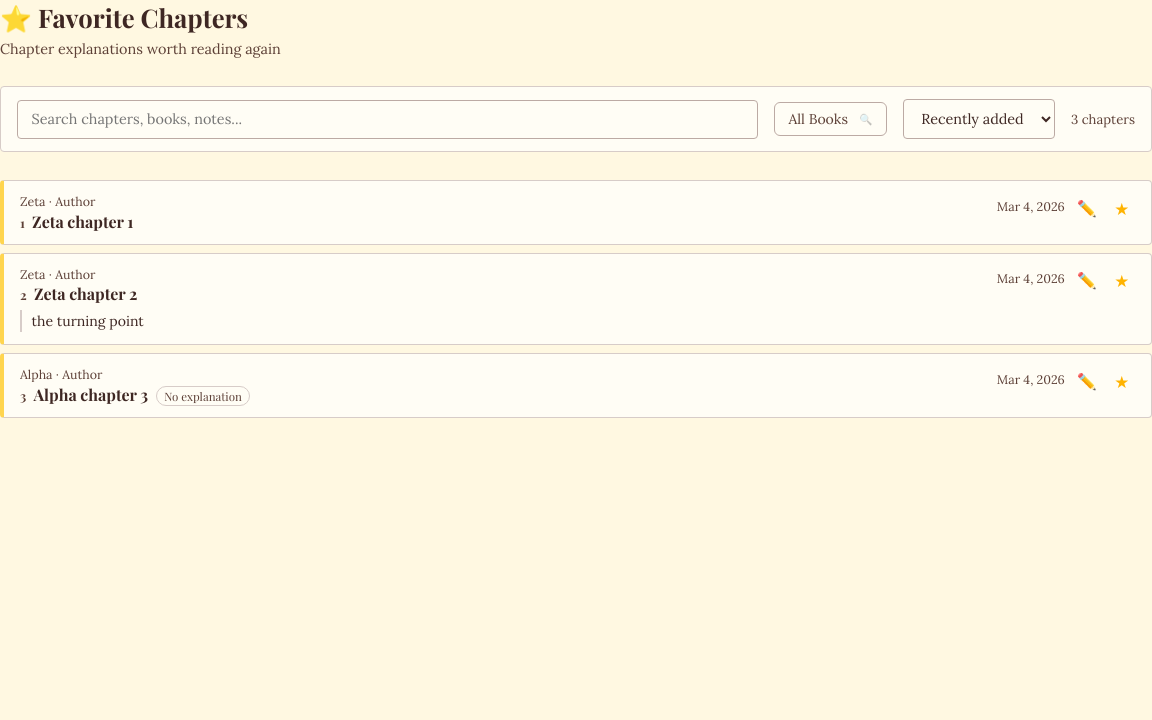
Test case: FavoritesPage › edits the note and removes a favorite after confirming
Click the 1st button titled "Add a note": click(1087, 208) [1071, 193, 1102, 223]
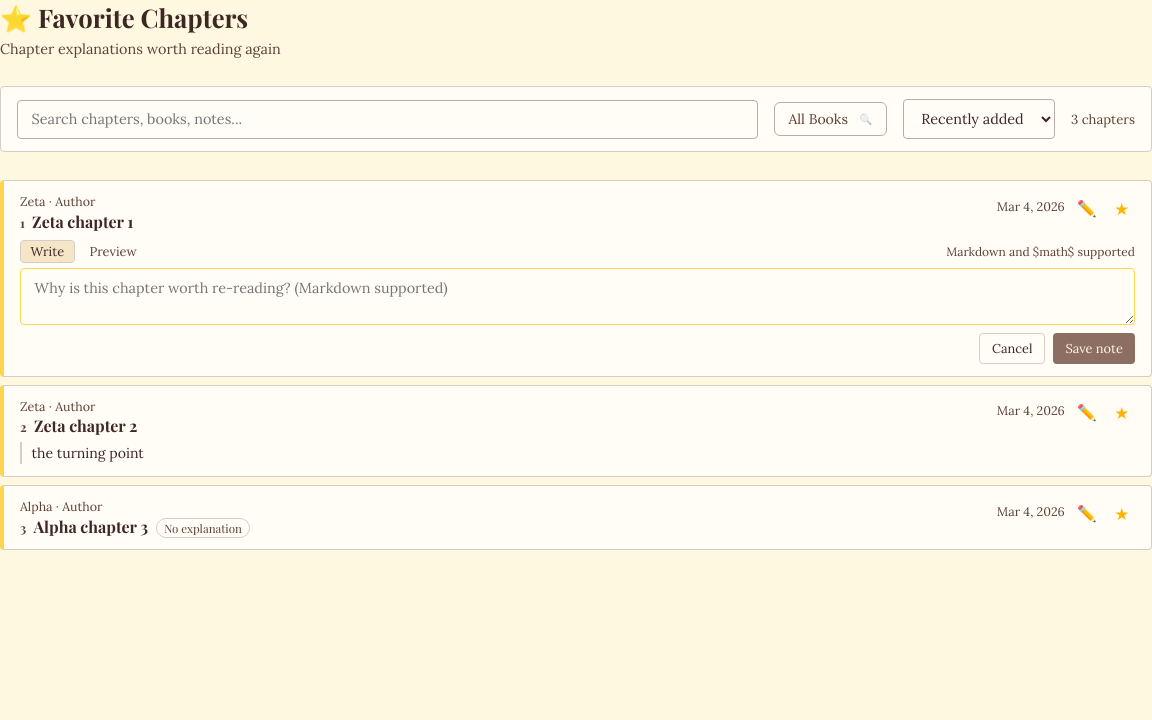
In the text box named "Note": (578, 297) [20, 268, 1135, 325], type "read before exams"
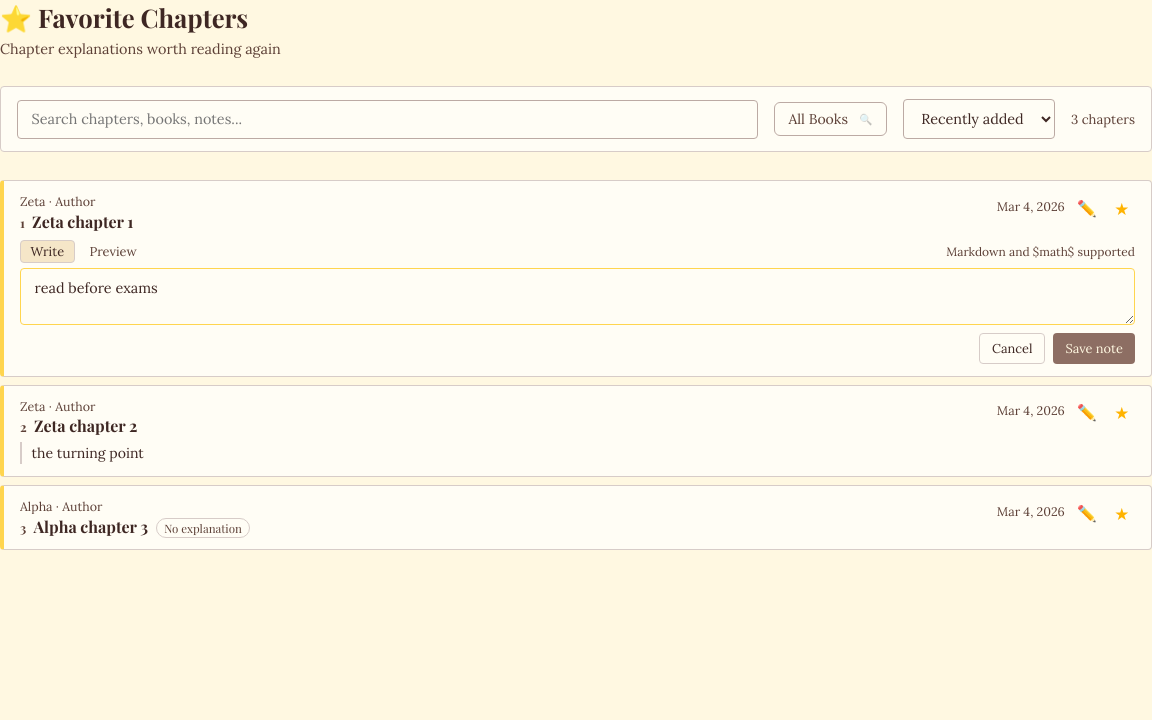
Click the button "Save note": click(1094, 348) [1053, 333, 1135, 364]
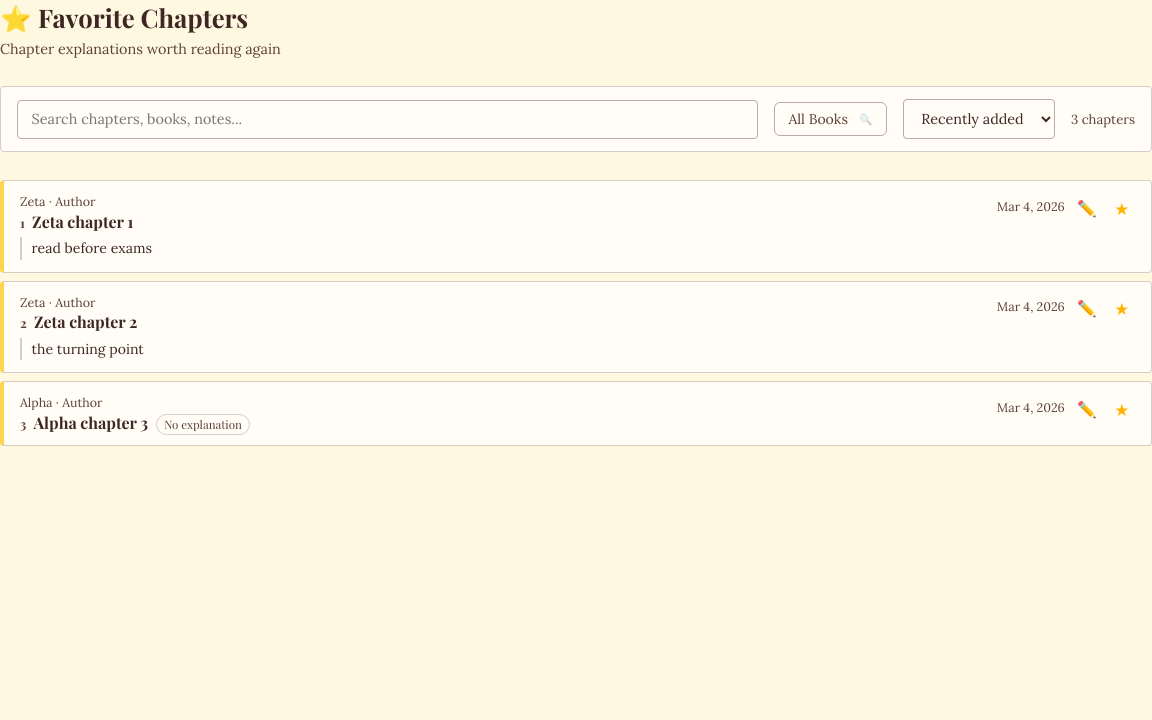
Result: the text "read before exams" is shown at [32, 239, 152, 257]
Click the 1st button titled "Remove from Favorite Chapters": click(1122, 209) [1109, 193, 1135, 225]
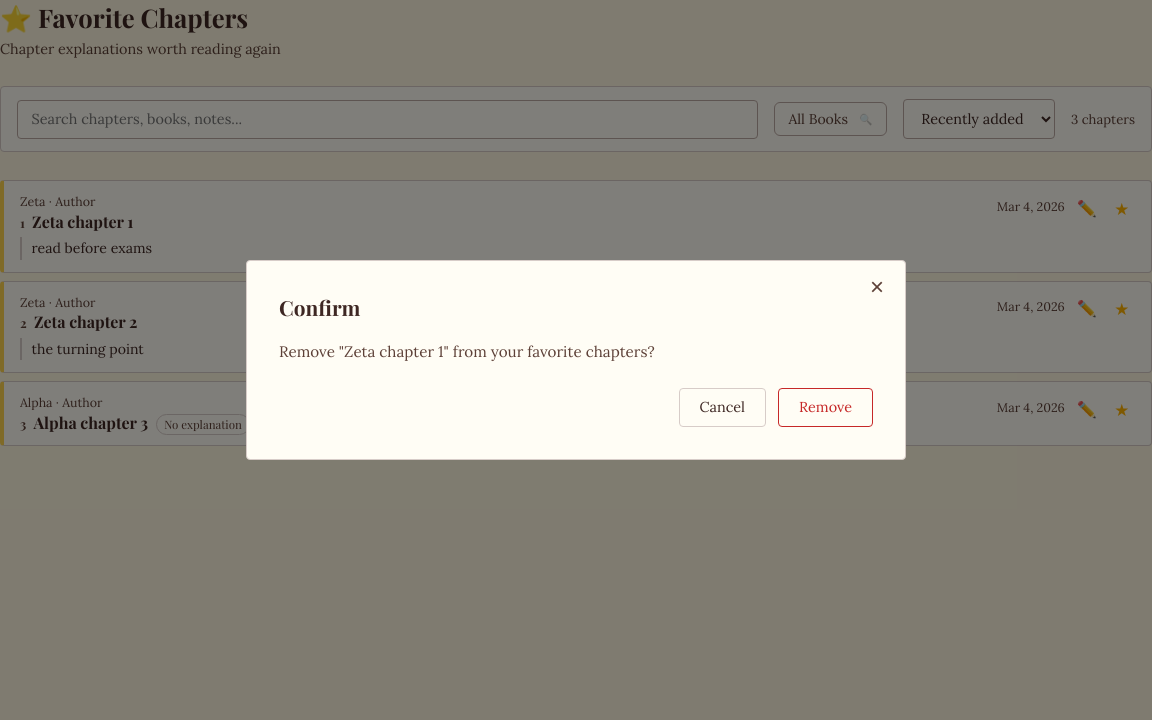
Click the button "Remove": click(826, 407) [778, 388, 873, 427]
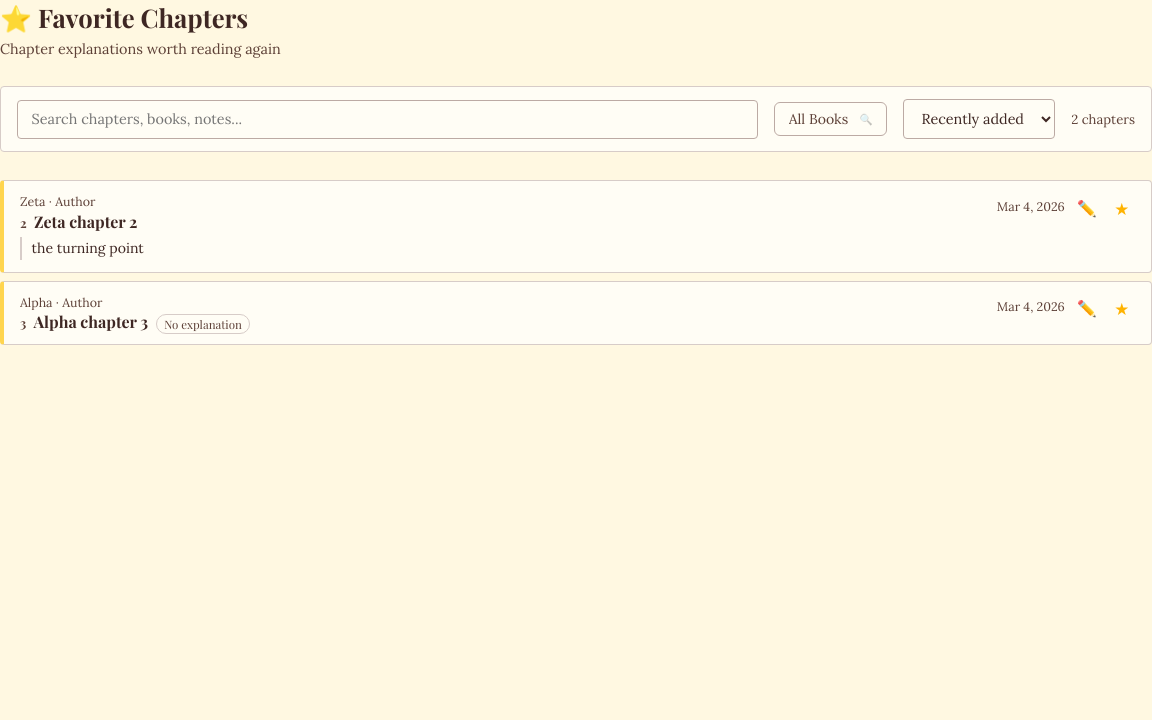
Result: the button "Zeta chapter 1" is gone
Result: the text "2 chapters" is shown at [1071, 111, 1135, 128]
